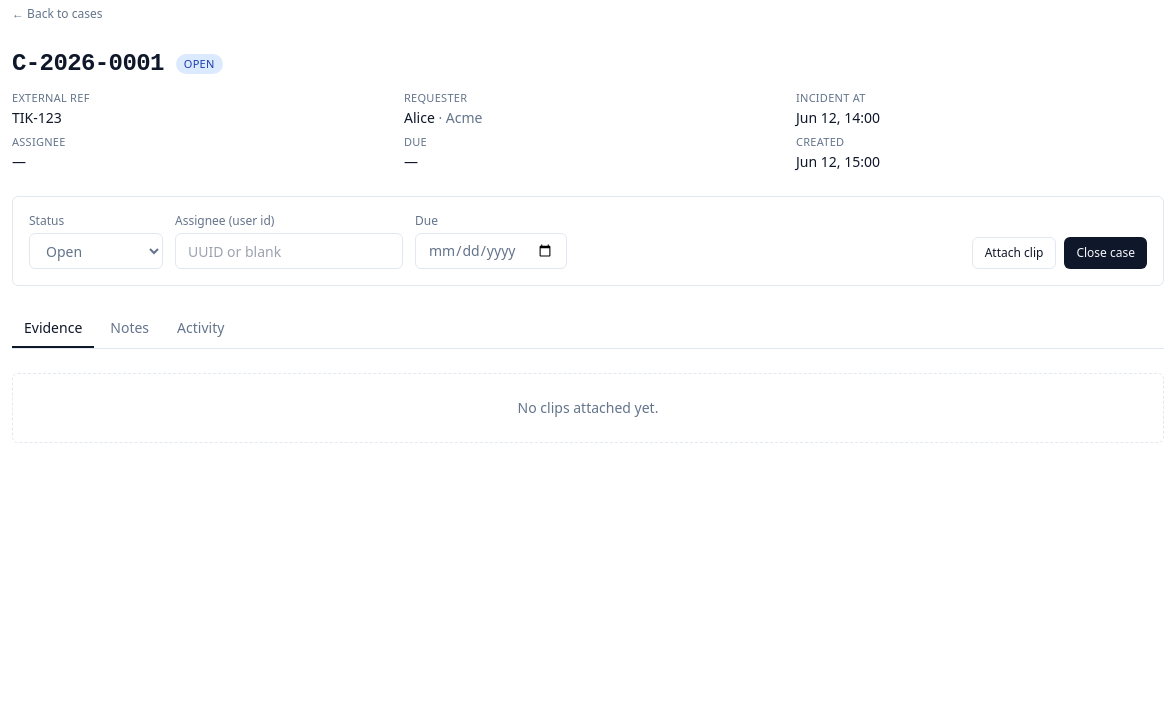
Scenario: CaseDetailPage › switches between Evidence / Notes / Activity tabs
Expected: the text "No clips attached yet." is shown, [12,373,1164,443]
Click the tab with test id "case-detail-tab-notes" at (130, 329), box [98,310,161,348]
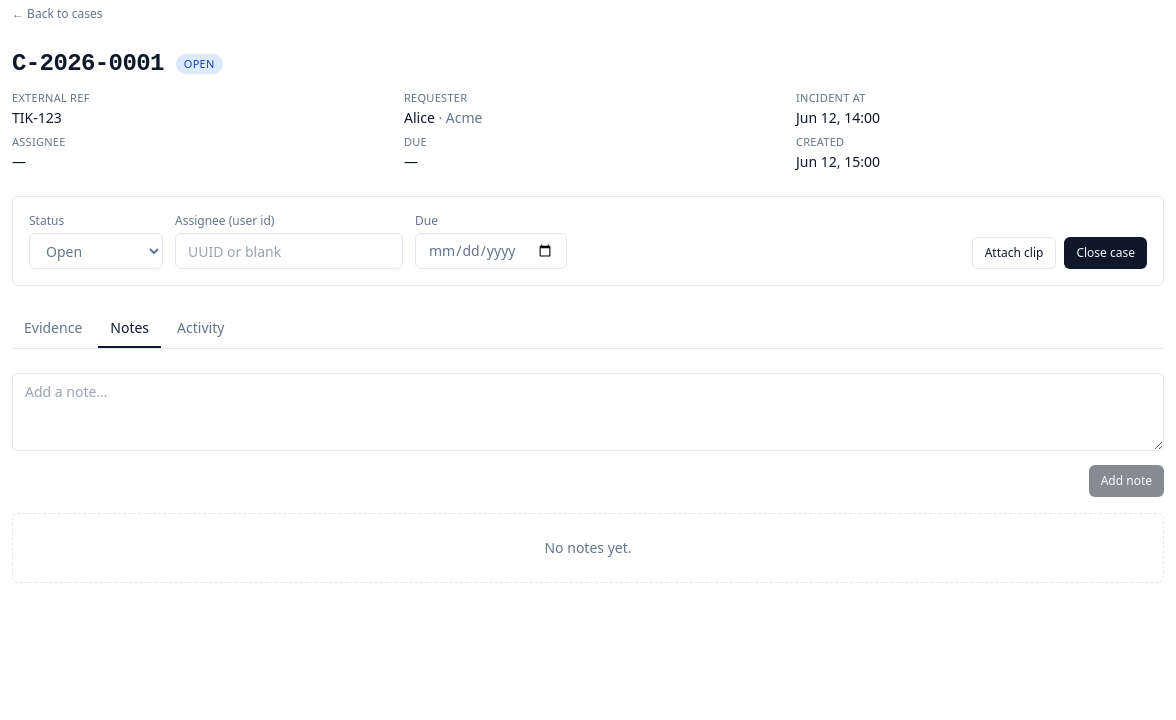
Now the element with test id "case-detail-notes" is shown, box [12,373,1164,583]
Click the tab with test id "case-detail-tab-activity" at (201, 329), box [165,310,236,348]
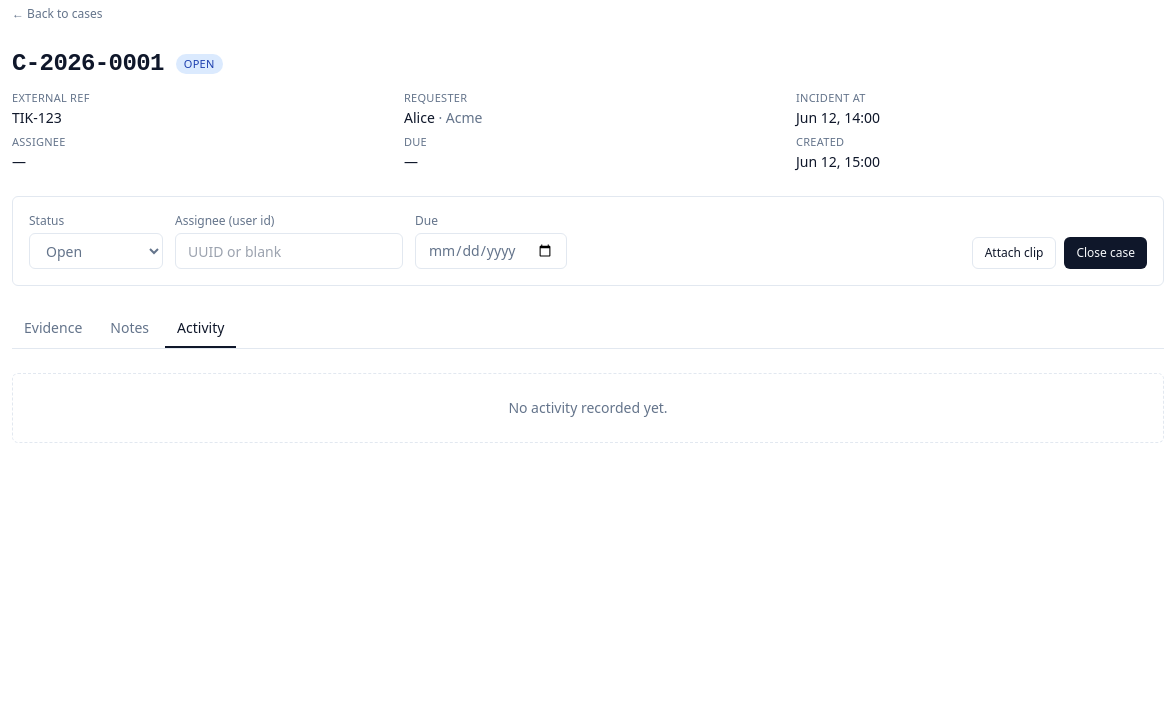
Now the text "No activity recorded yet." is shown, box [12,373,1164,443]
